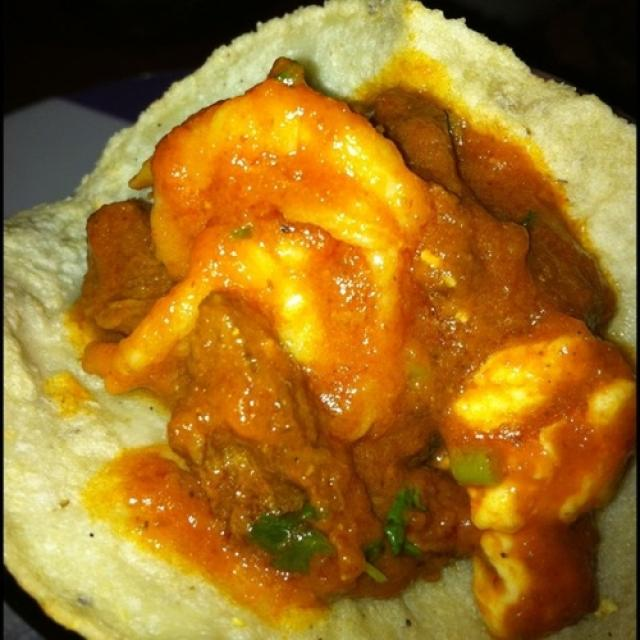面包点心: (4, 26, 630, 628)
